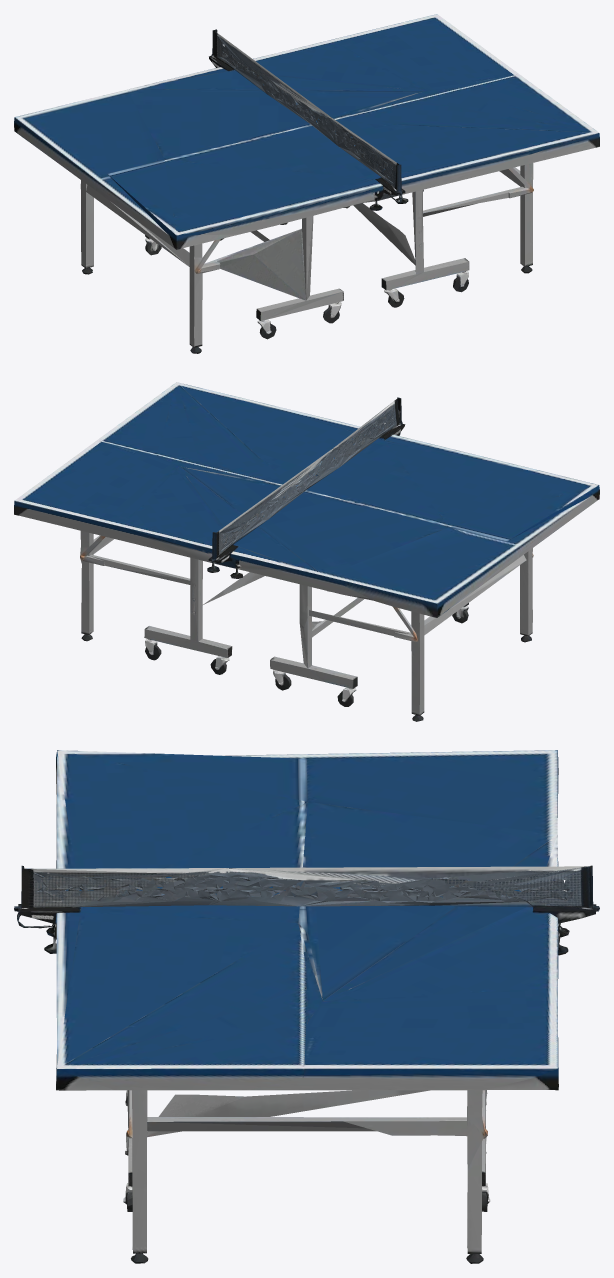
The model's file is ping_pong_table.glb.
The picture shows the model from 3 angles, top to bottom: view 1: azimuth 30°, elevation 25°; view 2: azimuth 150°, elevation 25°; view 3: azimuth 270°, elevation 25°; orthographic projection. The views are drawn at different scales.
Visible parts, largest first — view 1: Mesh_0; view 2: Mesh_0; view 3: Mesh_0.
Boxes of the visible parts, x1,y1,x2,y2 form: Mesh_0: [14, 14, 599, 353]; Mesh_0: [14, 382, 599, 721]; Mesh_0: [14, 750, 599, 1263].
Size of the model in its own units: 2.02 by 0.8 by 1.56.
1 material, 1 textured.
